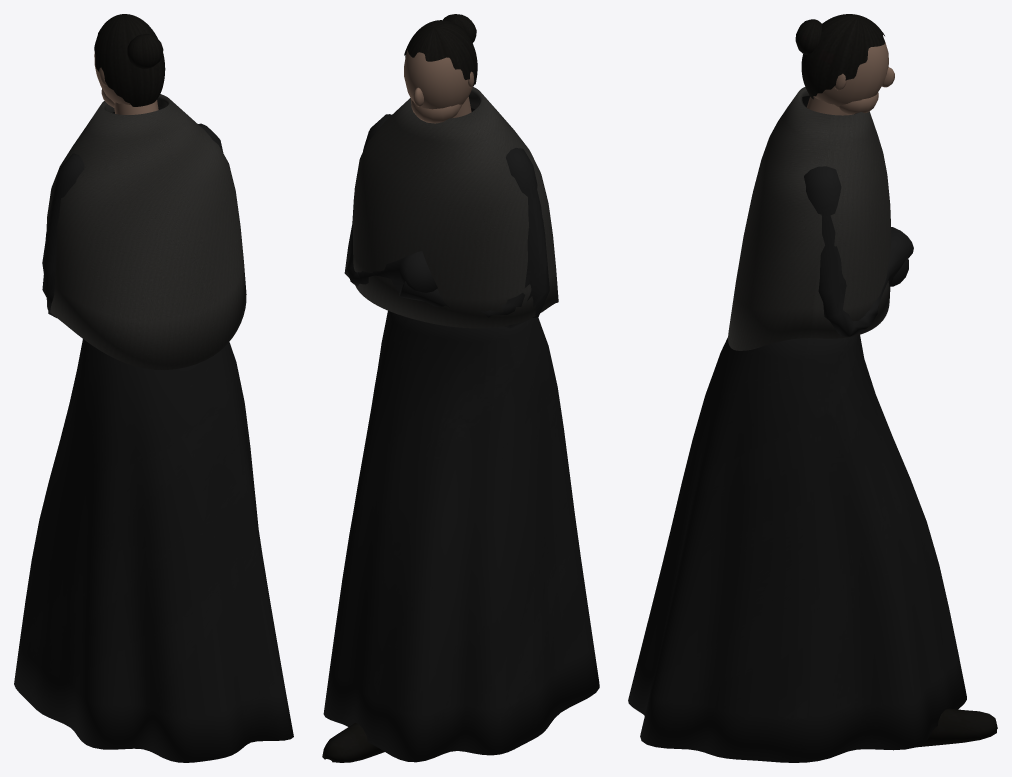
The model's file is walker-woman-shawl.glb.
The picture shows the model from 3 angles, left to right: view 1: azimuth 30°, elevation 25°; view 2: azimuth 150°, elevation 25°; view 3: azimuth 270°, elevation 25°; orthographic projection. The views are drawn at different scales.
Parts seen in each view (by area): view 1: walker-woman-shawl-body; view 2: walker-woman-shawl-body; view 3: walker-woman-shawl-body.
Part boxes in pixels (bbox=[...]): walker-woman-shawl-body: bbox=[14, 14, 293, 762]; walker-woman-shawl-body: bbox=[322, 14, 599, 762]; walker-woman-shawl-body: bbox=[628, 14, 997, 762].
Size of the model in its own units: 0.4762 by 1.56 by 0.7252.
7 materials, 5 textured.
